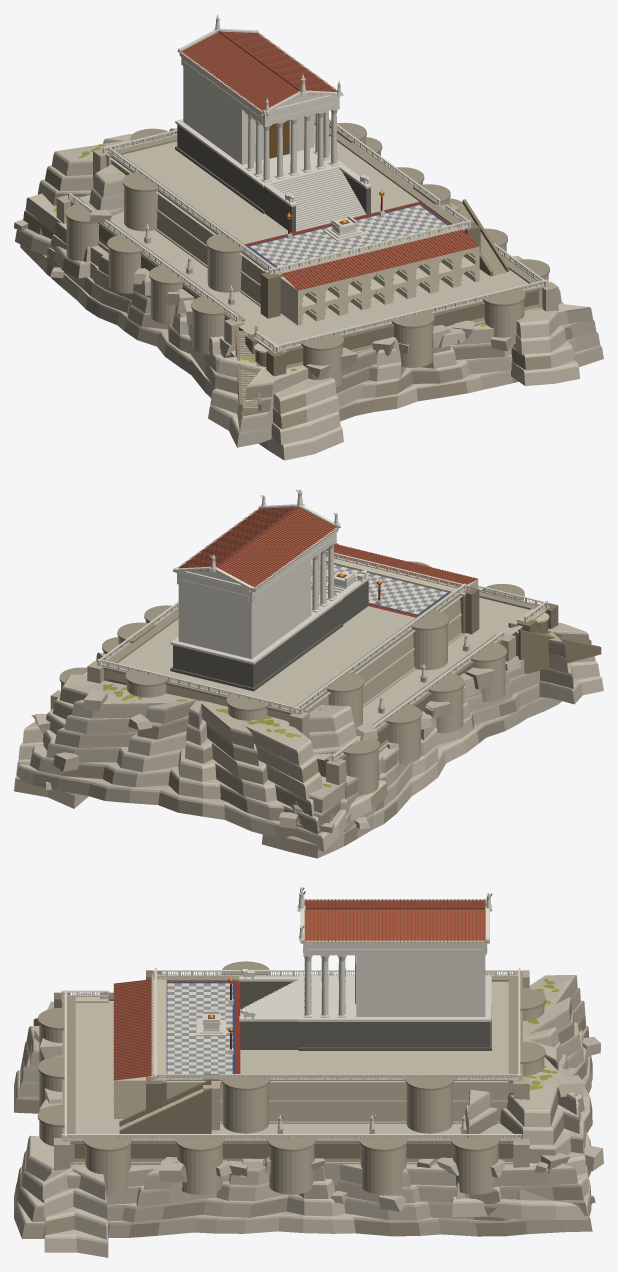
Rendered from rome_magna_mater.glb.
3 renders of one model, top to bottom at view 1: azimuth 30°, elevation 25°; view 2: azimuth 150°, elevation 25°; view 3: azimuth 270°, elevation 25°, orthographic. The views are drawn at different scales.
Parts seen in each view (by area): view 1: rome_magna_mater; view 2: rome_magna_mater; view 3: rome_magna_mater.
Part boxes in pixels (<box>): rome_magna_mater: <box>14,14,603,460</box>; rome_magna_mater: <box>14,489,603,858</box>; rome_magna_mater: <box>14,887,603,1257</box>.
Bounding box in the file's own units: 80.78 × 53.51 × 103.
